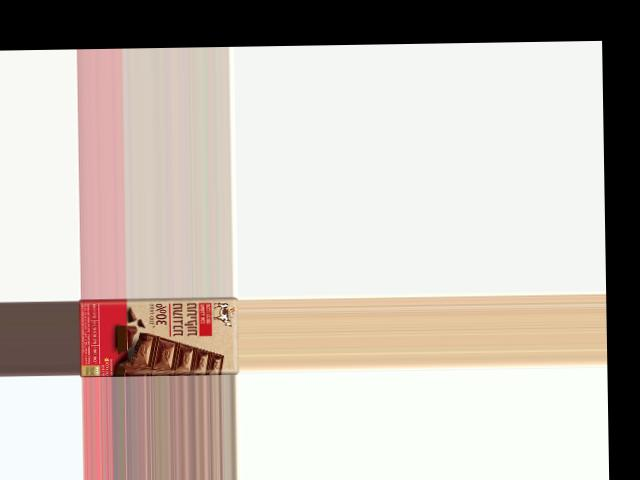chocolate: (79, 296, 239, 376)
